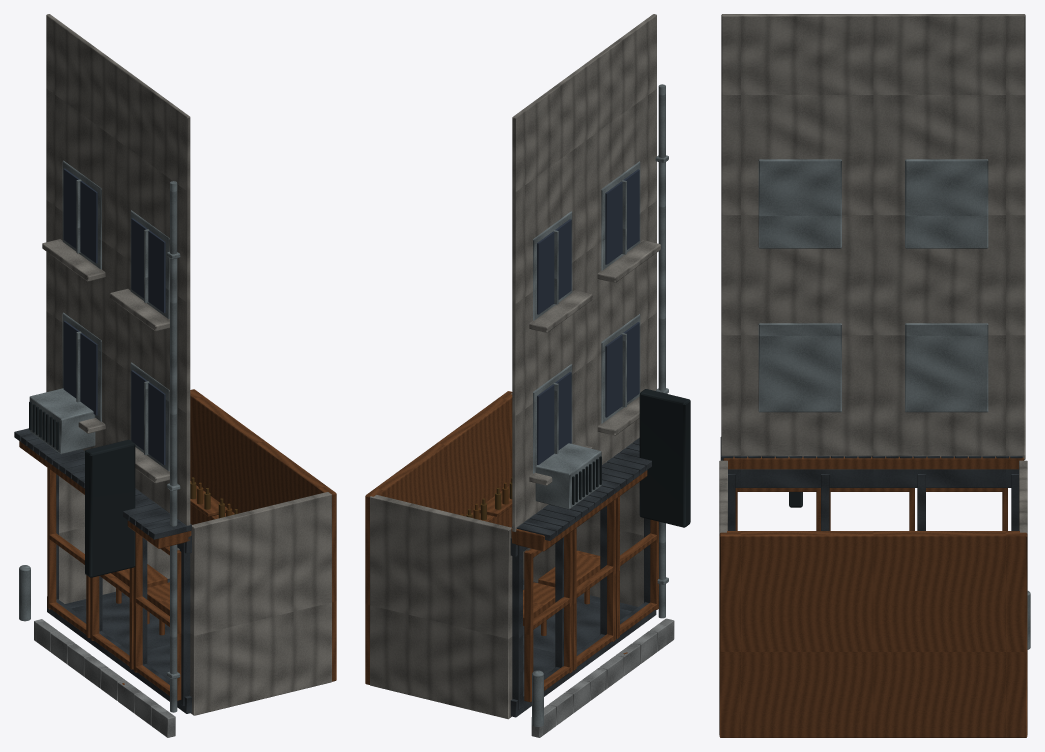
The model's file is tokyo-shopfront-right.glb.
3 views of the same model, side by side, from view 1: azimuth 30°, elevation 25°; view 2: azimuth 150°, elevation 25°; view 3: azimuth 270°, elevation 25° (orthographic). The views are drawn at different scales.
Visible parts, largest first — view 1: tokyo-shopfront-right/Weather-streaked upper facade.007, tokyo-shopfront-right/Shop party wall.014, tokyo-shopfront-right/Recessed shop rear wall.007, tokyo-shopfront-right/Projecting enamel sign.007, tokyo-shopfront-right/Rainwater downpipe.007, tokyo-shopfront-right/Shop party wall.015, tokyo-shopfront-right/Shop interior floor.007, tokyo-shopfront-right/Air conditioning condenser.007, tokyo-shopfront-right/Upper dark reflective glazing.031, tokyo-shopfront-right/Upper dark reflective glazing.029, tokyo-shopfront-right/Upper dark reflective glazing.030, tokyo-shopfront-right/Upper dark reflective glazing.028 (+18 smaller); view 2: tokyo-shopfront-right/Weather-streaked upper facade.007, tokyo-shopfront-right/Shop party wall.015, tokyo-shopfront-right/Recessed shop rear wall.007, tokyo-shopfront-right/Projecting enamel sign.007, tokyo-shopfront-right/Shop party wall.014, tokyo-shopfront-right/Rainwater downpipe.007, tokyo-shopfront-right/Air conditioning condenser.007, tokyo-shopfront-right/Shop interior floor.007, tokyo-shopfront-right/Upper dark reflective glazing.031, tokyo-shopfront-right/Upper dark reflective glazing.030, tokyo-shopfront-right/Upper dark reflective glazing.028, tokyo-shopfront-right/Upper dark reflective glazing.029 (+21 smaller); view 3: tokyo-shopfront-right/Weather-streaked upper facade.007, tokyo-shopfront-right/Recessed shop rear wall.007, tokyo-shopfront-right/Upper aluminium window.028, tokyo-shopfront-right/Upper aluminium window.029, tokyo-shopfront-right/Upper aluminium window.030, tokyo-shopfront-right/Upper aluminium window.031, tokyo-shopfront-right/Black ceramic shopfront lintel.007, tokyo-shopfront-right/Shop awning fascia.007, tokyo-shopfront-right/Shop party wall.014, tokyo-shopfront-right/Shop party wall.015, tokyo-shopfront-right/Ceramic facade pier.029, tokyo-shopfront-right/Ceramic facade pier.030.
Part boxes in pixels (left/top/right/bottom): tokyo-shopfront-right/Weather-streaked upper facade.007: left=46, top=14, right=190, bottom=525; tokyo-shopfront-right/Shop party wall.014: left=190, top=492, right=331, bottom=715; tokyo-shopfront-right/Recessed shop rear wall.007: left=190, top=389, right=336, bottom=681; tokyo-shopfront-right/Projecting enamel sign.007: left=85, top=439, right=135, bottom=577; tokyo-shopfront-right/Rainwater downpipe.007: left=170, top=181, right=177, bottom=712; tokyo-shopfront-right/Shop party wall.015: left=59, top=476, right=179, bottom=603; tokyo-shopfront-right/Shop interior floor.007: left=65, top=578, right=169, bottom=680; tokyo-shopfront-right/Air conditioning condenser.007: left=29, top=388, right=95, bottom=454; tokyo-shopfront-right/Upper dark reflective glazing.031: left=63, top=168, right=97, bottom=263; tokyo-shopfront-right/Upper dark reflective glazing.029: left=63, top=320, right=97, bottom=415; tokyo-shopfront-right/Upper dark reflective glazing.030: left=131, top=218, right=165, bottom=313; tokyo-shopfront-right/Upper dark reflective glazing.028: left=131, top=370, right=165, bottom=465; tokyo-shopfront-right/Weather-streaked upper facade.007: left=512, top=14, right=656, bottom=531; tokyo-shopfront-right/Shop party wall.015: left=370, top=495, right=512, bottom=719; tokyo-shopfront-right/Recessed shop rear wall.007: left=365, top=391, right=512, bottom=684; tokyo-shopfront-right/Projecting enamel sign.007: left=639, top=389, right=690, bottom=527; tokyo-shopfront-right/Shop party wall.014: left=511, top=393, right=643, bottom=606; tokyo-shopfront-right/Rainwater downpipe.007: left=658, top=84, right=665, bottom=618; tokyo-shopfront-right/Air conditioning condenser.007: left=535, top=443, right=601, bottom=509; tokyo-shopfront-right/Shop interior floor.007: left=523, top=579, right=637, bottom=690; tokyo-shopfront-right/Upper dark reflective glazing.031: left=537, top=219, right=571, bottom=314; tokyo-shopfront-right/Upper dark reflective glazing.030: left=605, top=169, right=639, bottom=264; tokyo-shopfront-right/Upper dark reflective glazing.028: left=605, top=322, right=639, bottom=417; tokyo-shopfront-right/Upper dark reflective glazing.029: left=537, top=372, right=571, bottom=464; tokyo-shopfront-right/Weather-streaked upper facade.007: left=721, top=14, right=1025, bottom=459; tokyo-shopfront-right/Recessed shop rear wall.007: left=719, top=531, right=1027, bottom=737; tokyo-shopfront-right/Upper aluminium window.028: left=758, top=323, right=841, bottom=412; tokyo-shopfront-right/Upper aluminium window.029: left=905, top=323, right=988, bottom=412; tokyo-shopfront-right/Upper aluminium window.030: left=758, top=159, right=841, bottom=248; tokyo-shopfront-right/Upper aluminium window.031: left=905, top=159, right=988, bottom=248; tokyo-shopfront-right/Black ceramic shopfront lintel.007: left=728, top=469, right=1018, bottom=487; tokyo-shopfront-right/Shop awning fascia.007: left=723, top=457, right=1024, bottom=469; tokyo-shopfront-right/Shop party wall.014: left=719, top=460, right=727, bottom=734; tokyo-shopfront-right/Shop party wall.015: left=1019, top=460, right=1027, bottom=734; tokyo-shopfront-right/Ceramic facade pier.029: left=821, top=474, right=829, bottom=530; tokyo-shopfront-right/Ceramic facade pier.030: left=917, top=474, right=925, bottom=530.
Bounding box in the file's own units: 3.1 × 8.53 × 3.62.
Materials: 9 (5 with a texture image).
